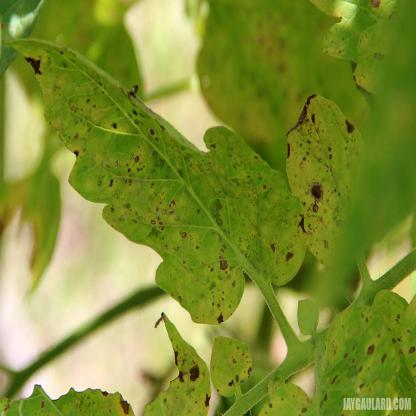tomato septoria leaf spot: (15, 33, 307, 316), (272, 62, 378, 310)
